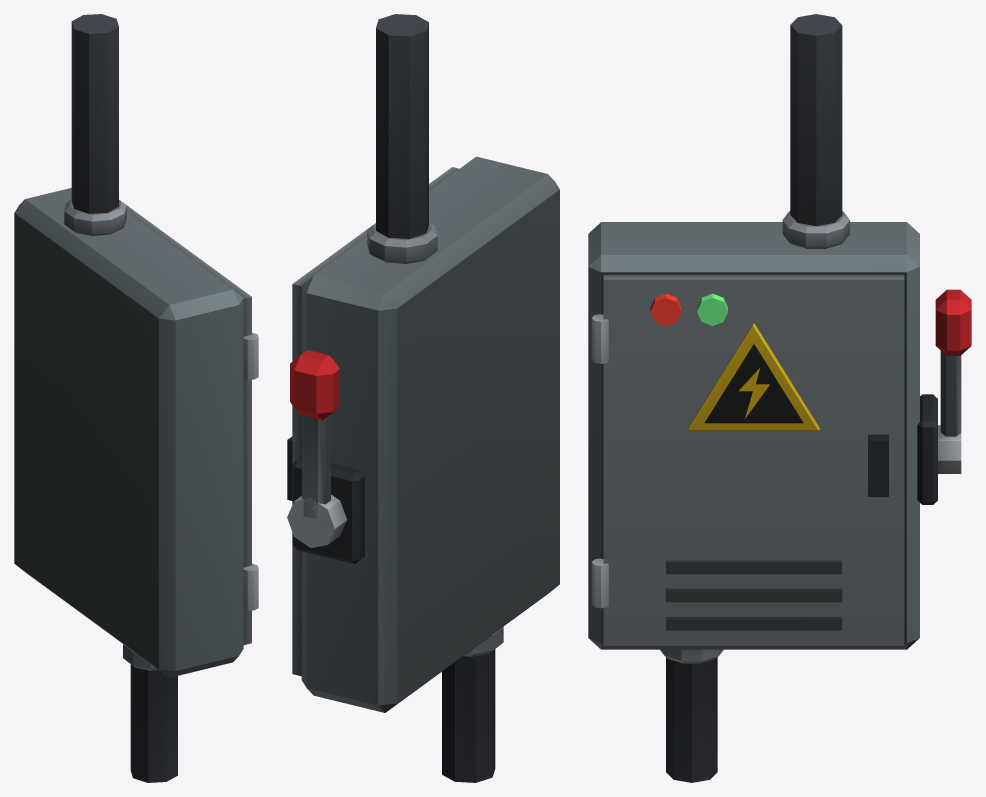
The model's file is switch_fuse.glb.
3 views of the same model, side by side, from view 1: azimuth 30°, elevation 25°; view 2: azimuth 150°, elevation 25°; view 3: azimuth 270°, elevation 25° (orthographic). The views are drawn at different scales.
Parts seen in each view (by area): view 1: Body; view 2: Body, Lever; view 3: Body, Lever, Light_glow.
Boxes of the visible parts, x1,y1,x2,y2 form: Body: (14, 14, 258, 782); Body: (287, 14, 559, 782); Lever: (287, 350, 346, 547); Body: (588, 14, 937, 782); Lever: (935, 289, 971, 473); Light_glow: (650, 293, 727, 325).
Bounding box in the file's own units: 0.25 × 1.59 × 0.74.
